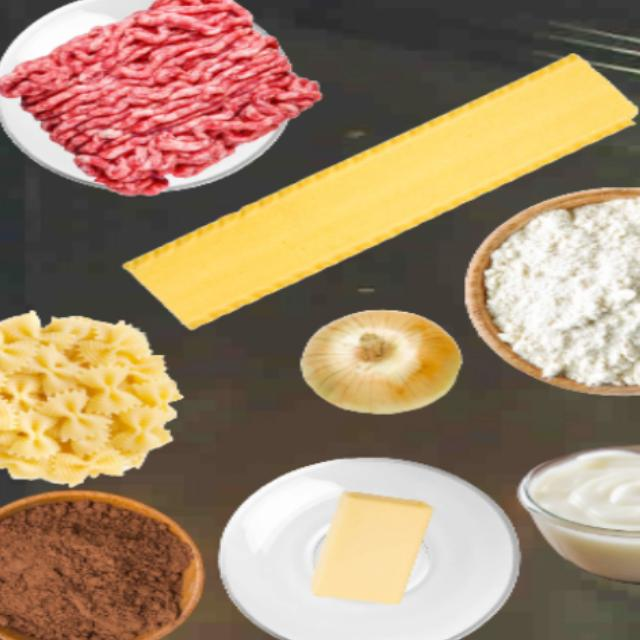Cocoa: (0, 490, 202, 639)
Flour: (483, 195, 639, 387)
